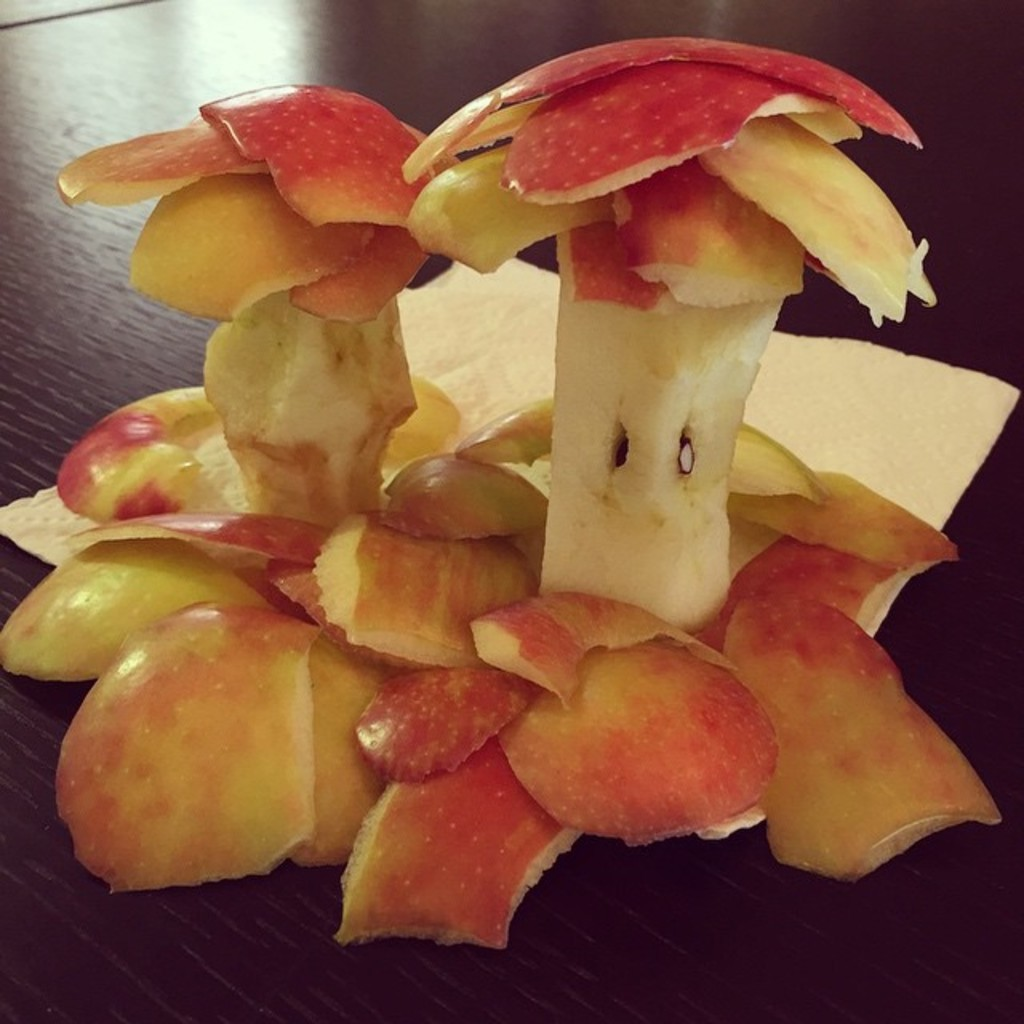Apple: (0, 25, 998, 955), (505, 620, 819, 884)
